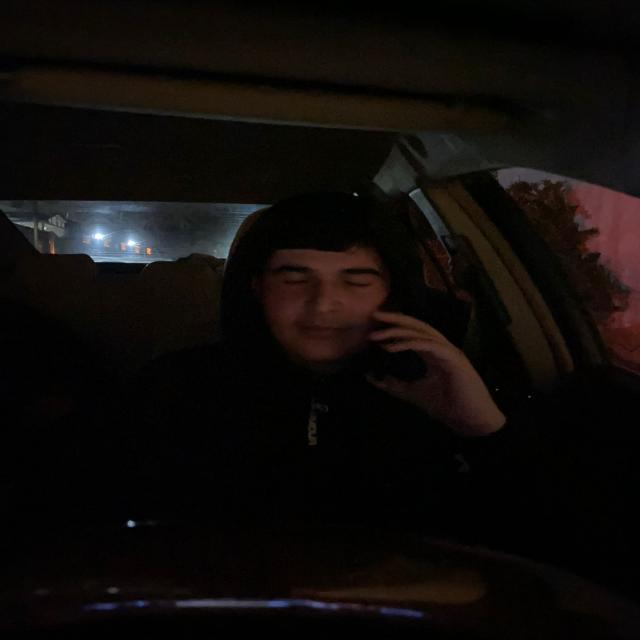mobile: (371, 345, 405, 388)
person: (231, 190, 421, 390)
